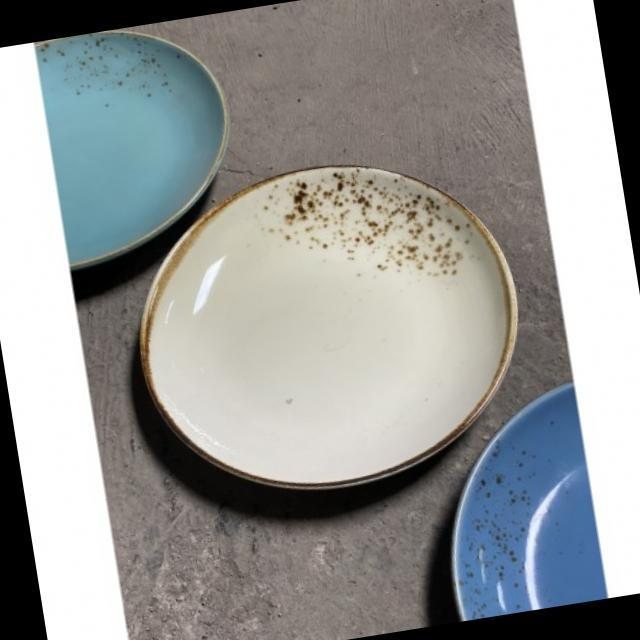plate: (97, 120, 551, 540)
